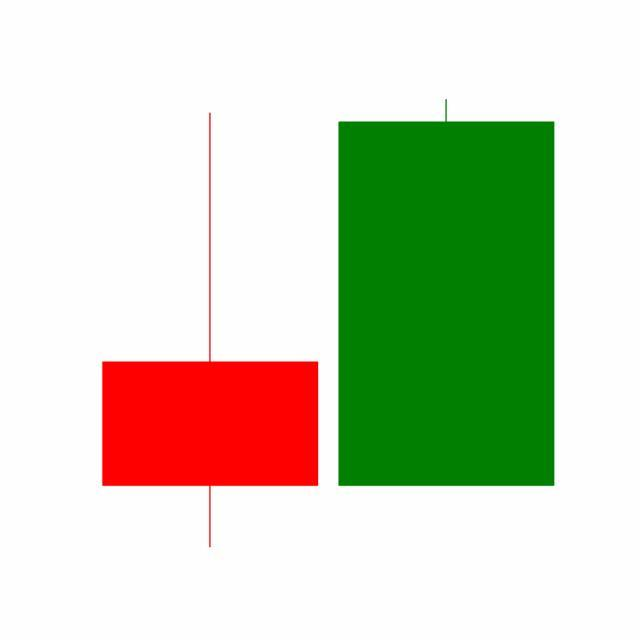Marubozu: (328, 95, 566, 490)
